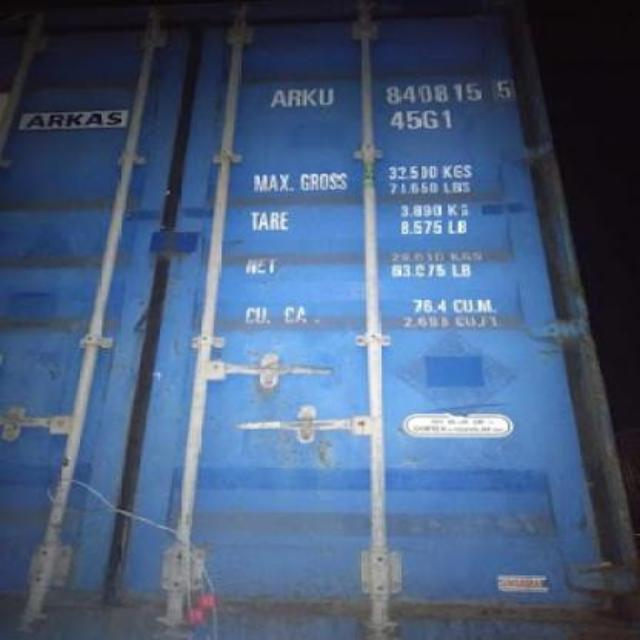0: (418, 83, 434, 103)
1: (452, 81, 468, 102)
4: (404, 84, 418, 104)
5: (464, 81, 480, 102), (496, 81, 512, 101)
8: (432, 82, 452, 102), (386, 87, 399, 107)
A: (269, 86, 285, 110)
K: (306, 87, 316, 107)
R: (288, 86, 302, 110)
U: (318, 85, 336, 106)
